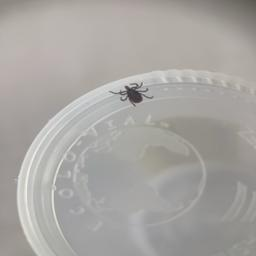Ixodes scapularis: (110, 83, 153, 104)
